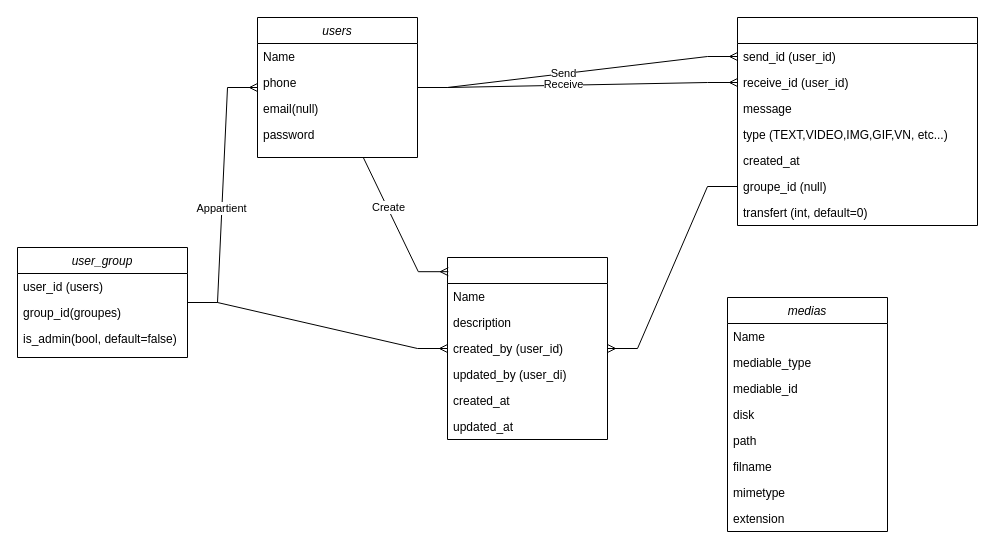
This 995x552 diagram has some shape labels left out. Here are the shapes that lost their labels. From the top down, the box of each, then its label:
(736, 16, 978, 226): messages
(446, 256, 608, 440): groupes
